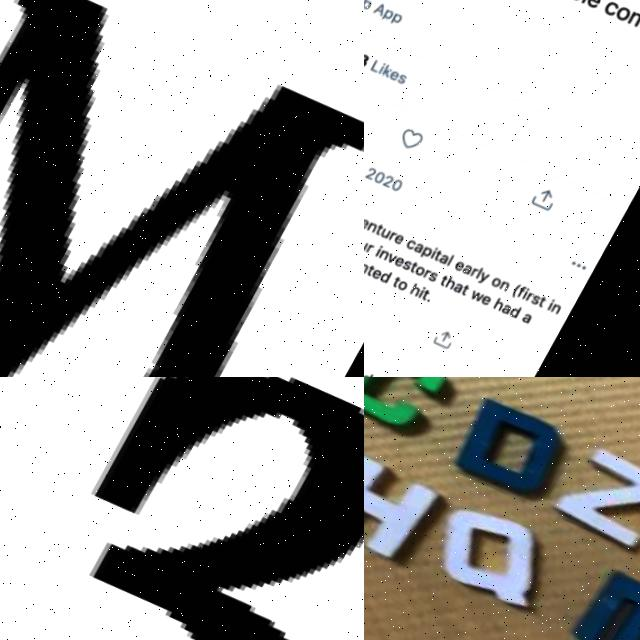0: (378, 176, 392, 191), (396, 185, 410, 200)
2: (386, 180, 401, 196), (370, 172, 384, 188)
3: (0, 377, 364, 640)
8: (364, 58, 374, 74)
C: (364, 377, 466, 451)
D: (453, 398, 579, 514)
H: (364, 443, 458, 579)
M: (0, 0, 364, 377), (568, 564, 640, 640)
Q: (430, 498, 572, 623)
Z: (549, 443, 640, 574)
